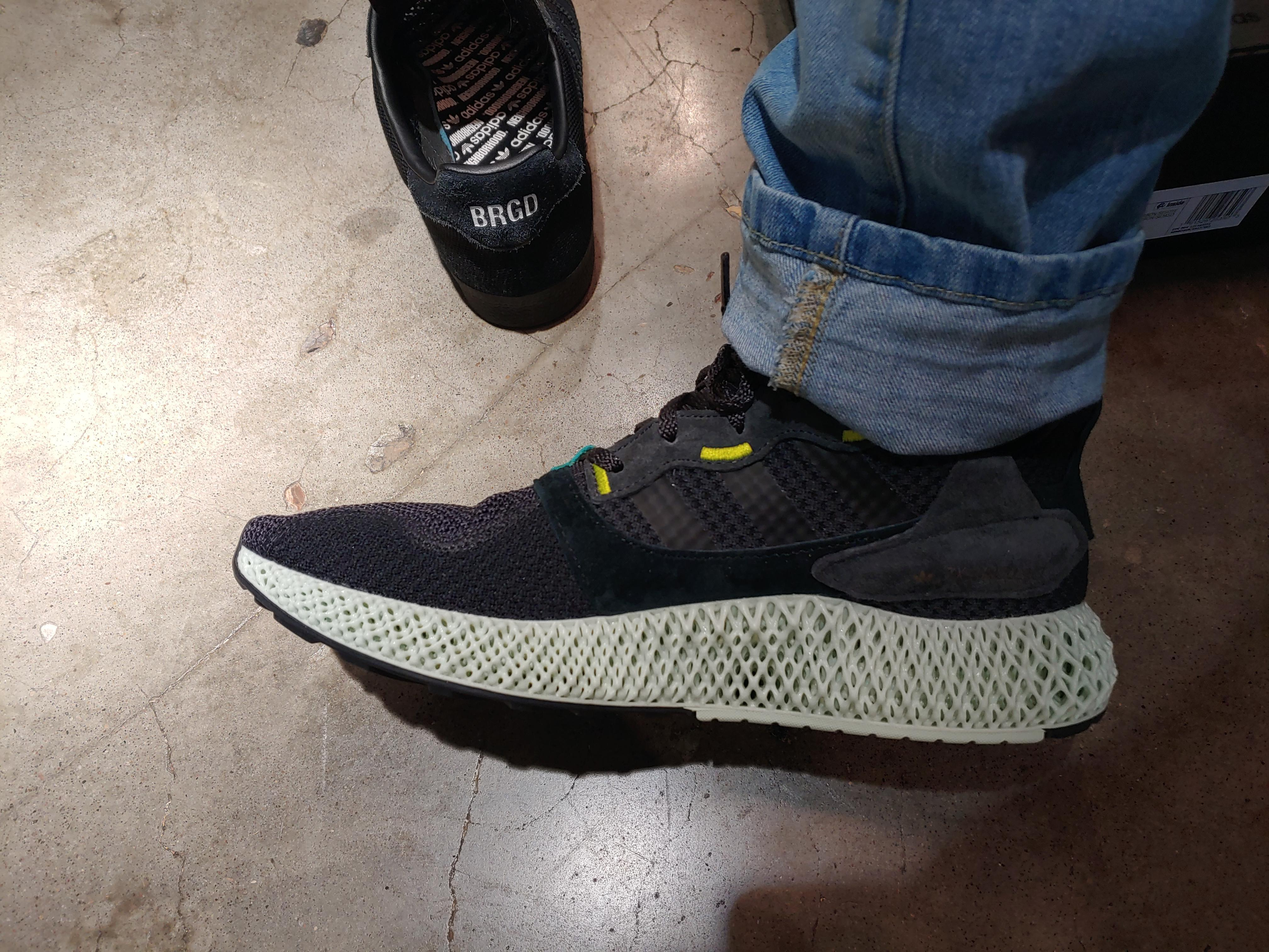sneaker: (235, 345, 1122, 744), (352, 0, 606, 332)
